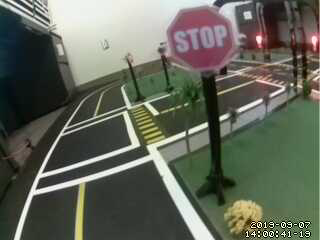Stop_Sign: (161, 8, 242, 71)
